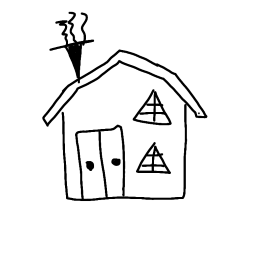closed_window: (130, 86, 175, 131), (131, 139, 174, 178)
door: (69, 122, 131, 205)
roof: (36, 45, 213, 129)
smoking_chimney: (48, 11, 101, 88)
wall: (55, 92, 196, 207)
